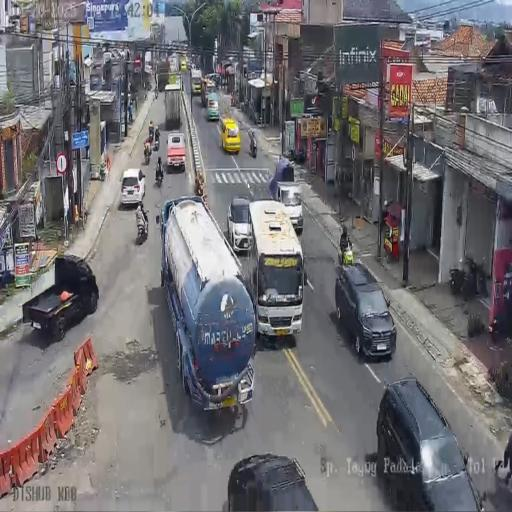3: (156, 58, 169, 88), (191, 67, 202, 96), (144, 51, 153, 74), (168, 53, 178, 73)
car: (373, 375, 484, 509), (22, 255, 100, 339), (337, 263, 396, 359), (273, 182, 304, 234), (227, 195, 252, 252), (120, 168, 146, 207), (166, 132, 187, 172), (220, 116, 241, 154), (206, 91, 220, 121), (204, 72, 220, 90), (180, 56, 186, 72), (189, 60, 195, 72)
truck: (286, 144, 306, 164), (154, 163, 164, 187), (143, 140, 152, 164), (154, 130, 160, 150), (144, 84, 148, 100)
